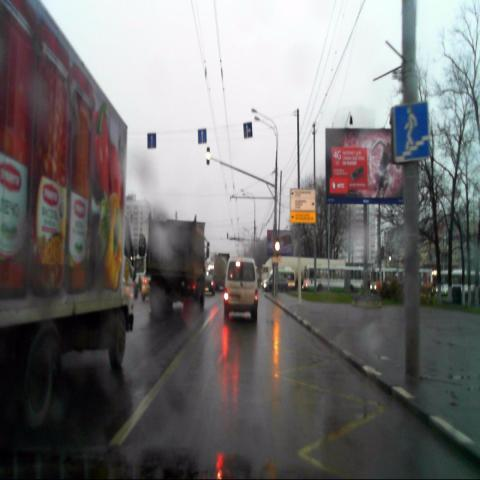6_6: (391, 102, 430, 161)
